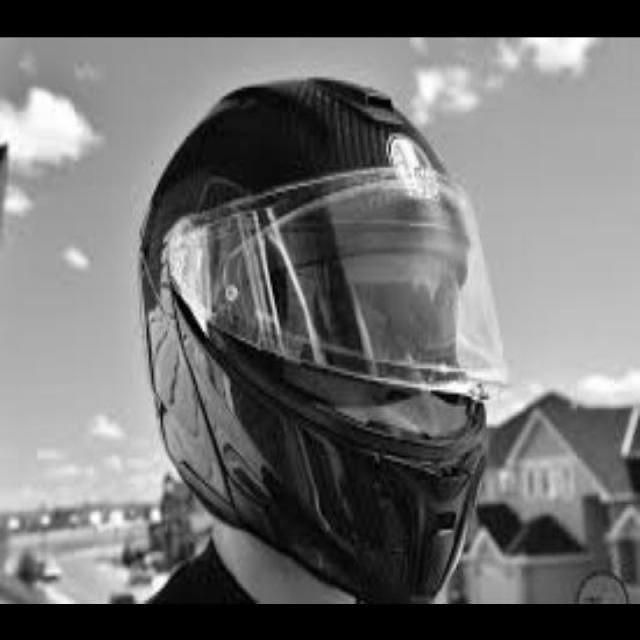5_casco: (130, 65, 498, 604)
